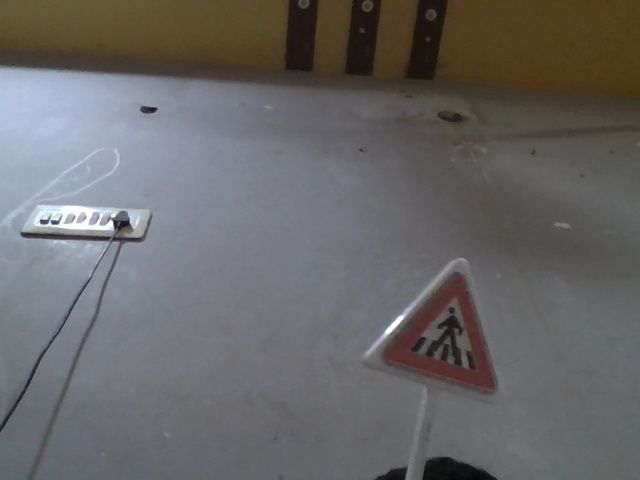crossing: (339, 236, 493, 381)
